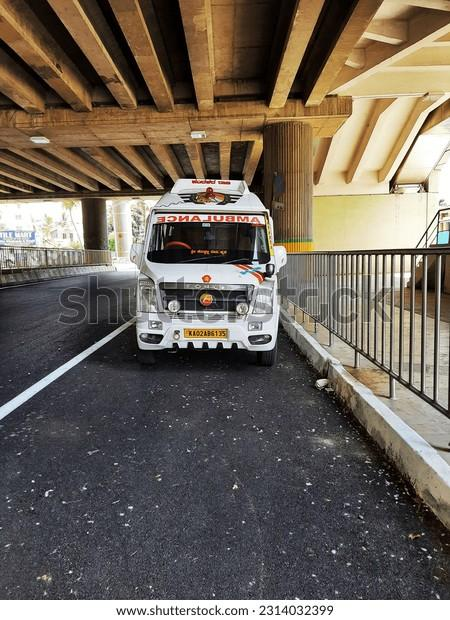ER: (139, 179, 282, 361)
